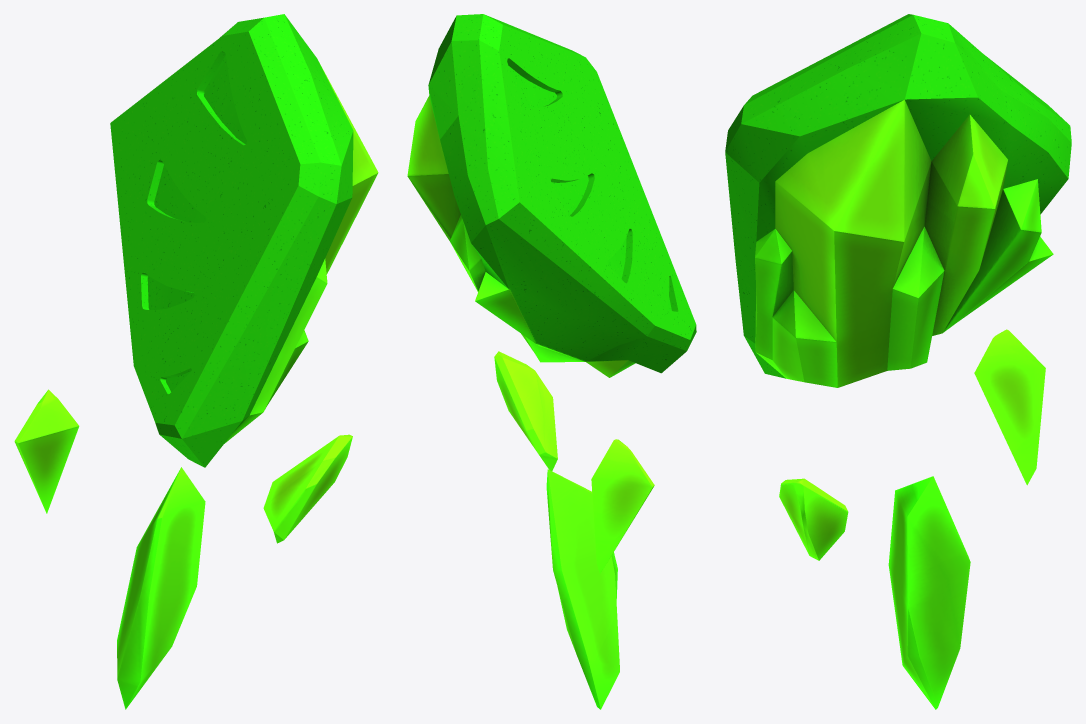
File: FirstPhase.gltf
3 views of the same model, side by side, from view 1: azimuth 30°, elevation 25°; view 2: azimuth 150°, elevation 25°; view 3: azimuth 270°, elevation 25° (orthographic). The views are drawn at different scales.
Parts seen in each view (by area): view 1: SM_Powerup_A3; view 2: SM_Powerup_A3; view 3: SM_Powerup_A3.
Part boxes in pixels (bbox=[...]): SM_Powerup_A3: bbox=[14, 14, 378, 709]; SM_Powerup_A3: bbox=[407, 14, 696, 709]; SM_Powerup_A3: bbox=[725, 14, 1071, 709].
Size of the model in its own units: 0.7551 by 1.66 by 0.6788.
1 material, 1 textured.
